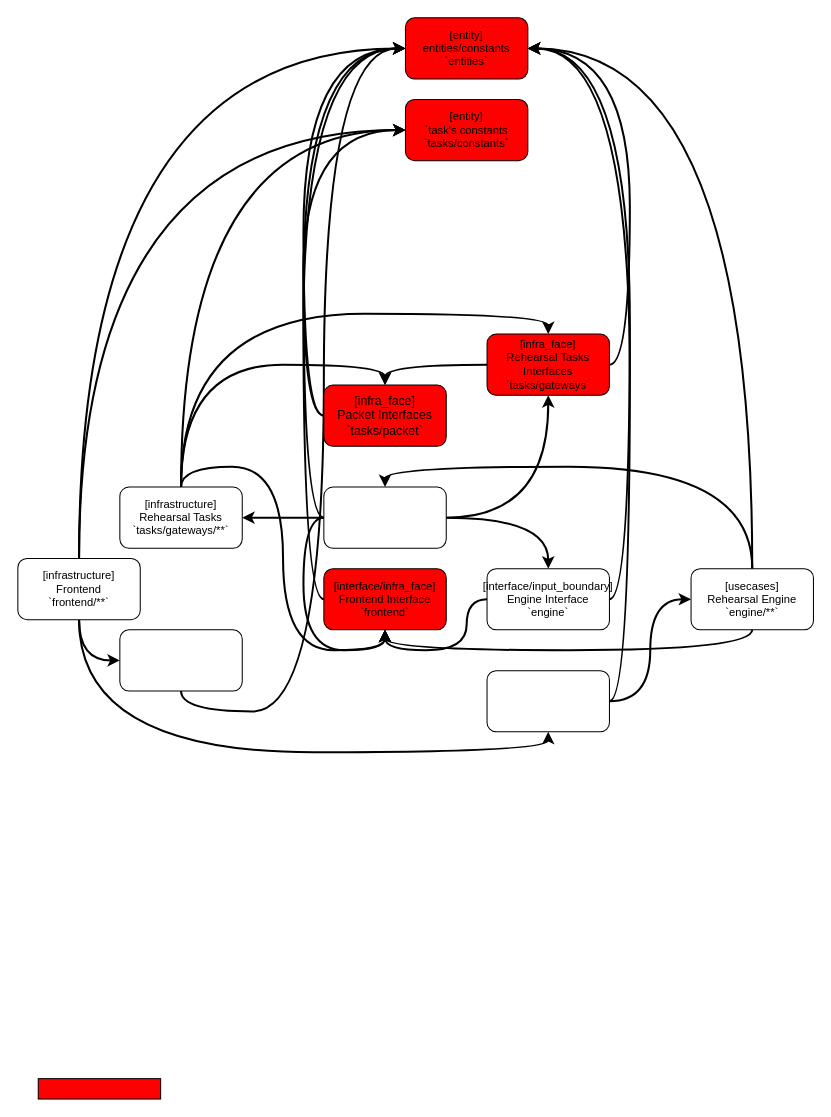
Image size: 831x1117. Some labels were removed from this diagram. The shapes that lost their labels are listed below. From the top down, each one's centre as x and y in pixels, then its label:
(384,517): [interface/creator] Rehearsal Task Manager `tasks/manager`
(180,660): [infrastructure/helper] file parser
(547,701): [interface/creator] Initializer `init`
(99,1088): V1: Red
